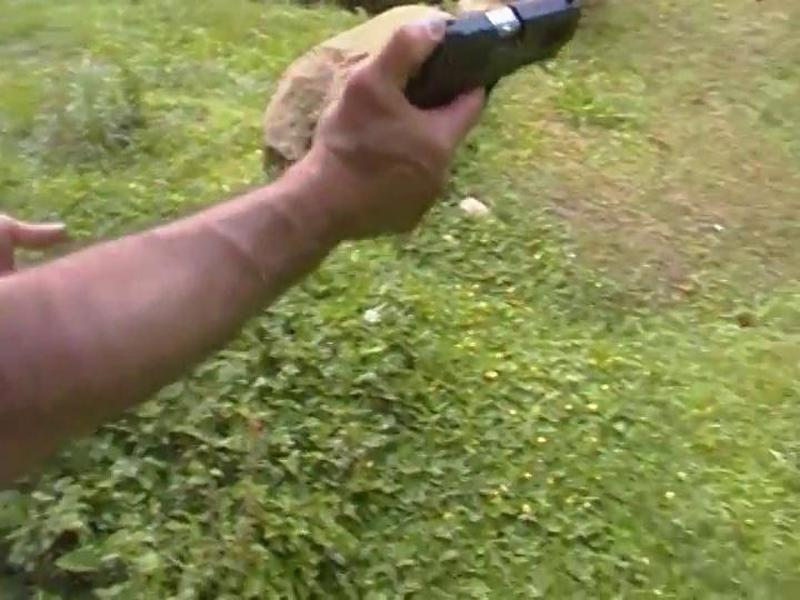Pistola: (348, 1, 602, 167)
